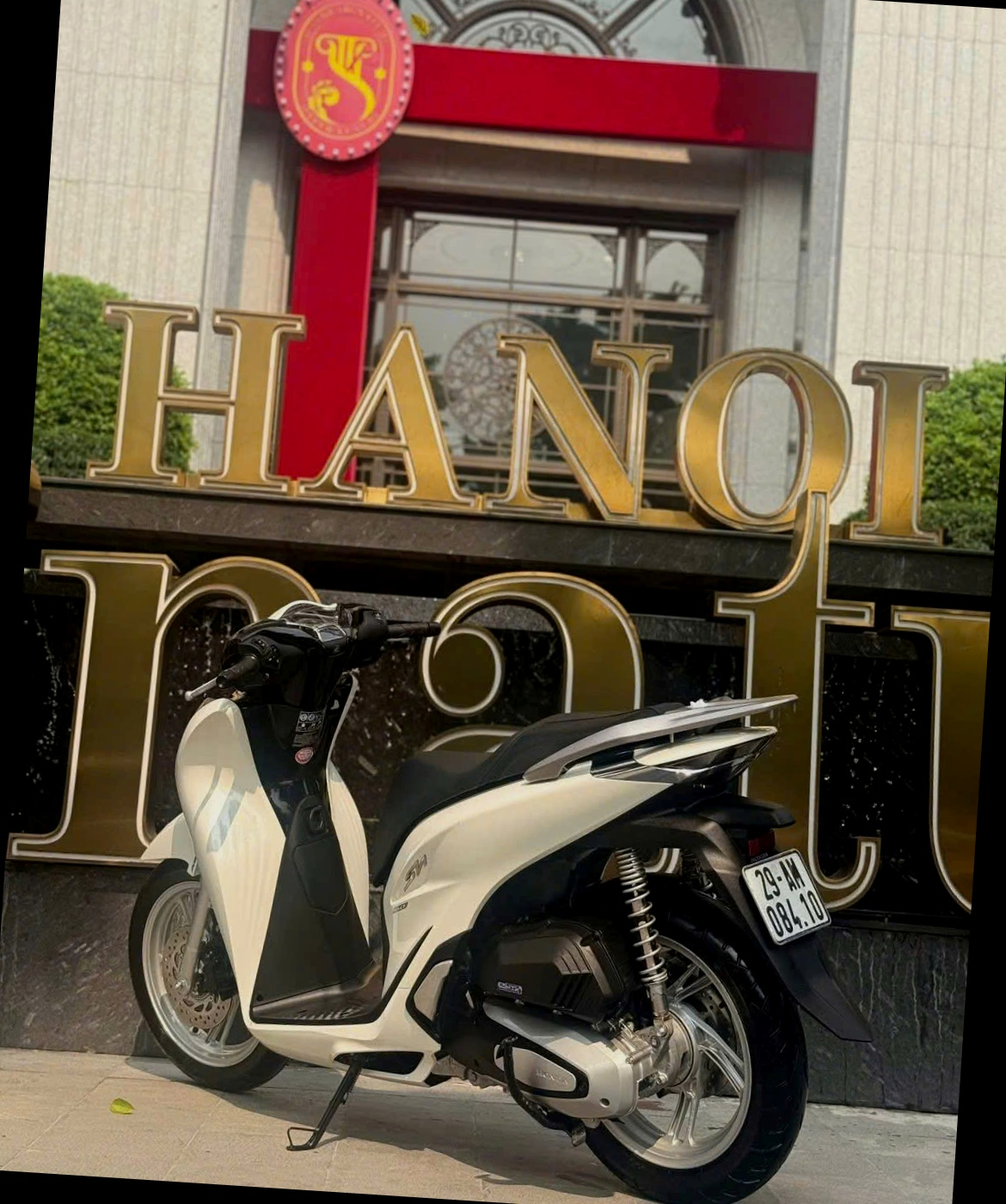Bien-so: (733, 838, 840, 953)
